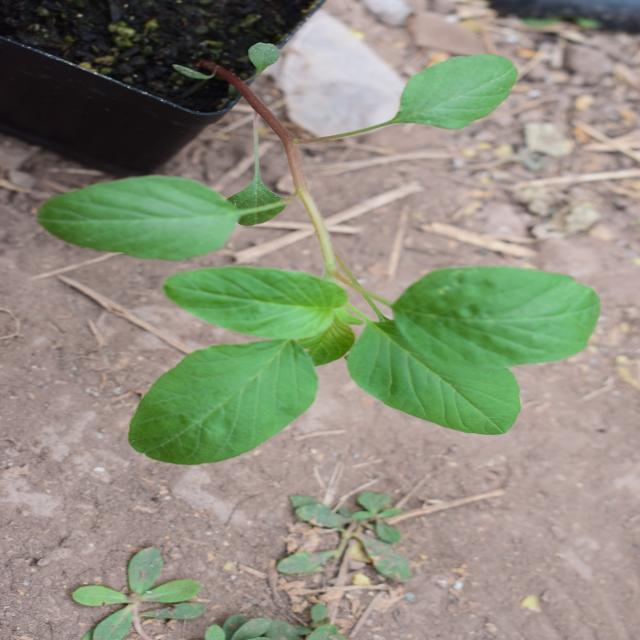pigweed: (80, 71, 467, 548)
